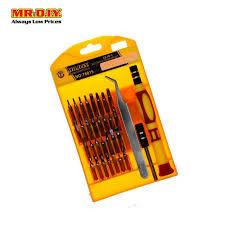screwdriver: (126, 62, 175, 177)
